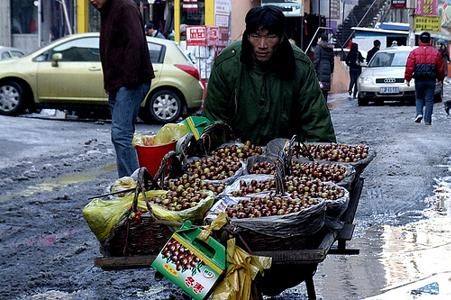person: (205, 6, 339, 300)
